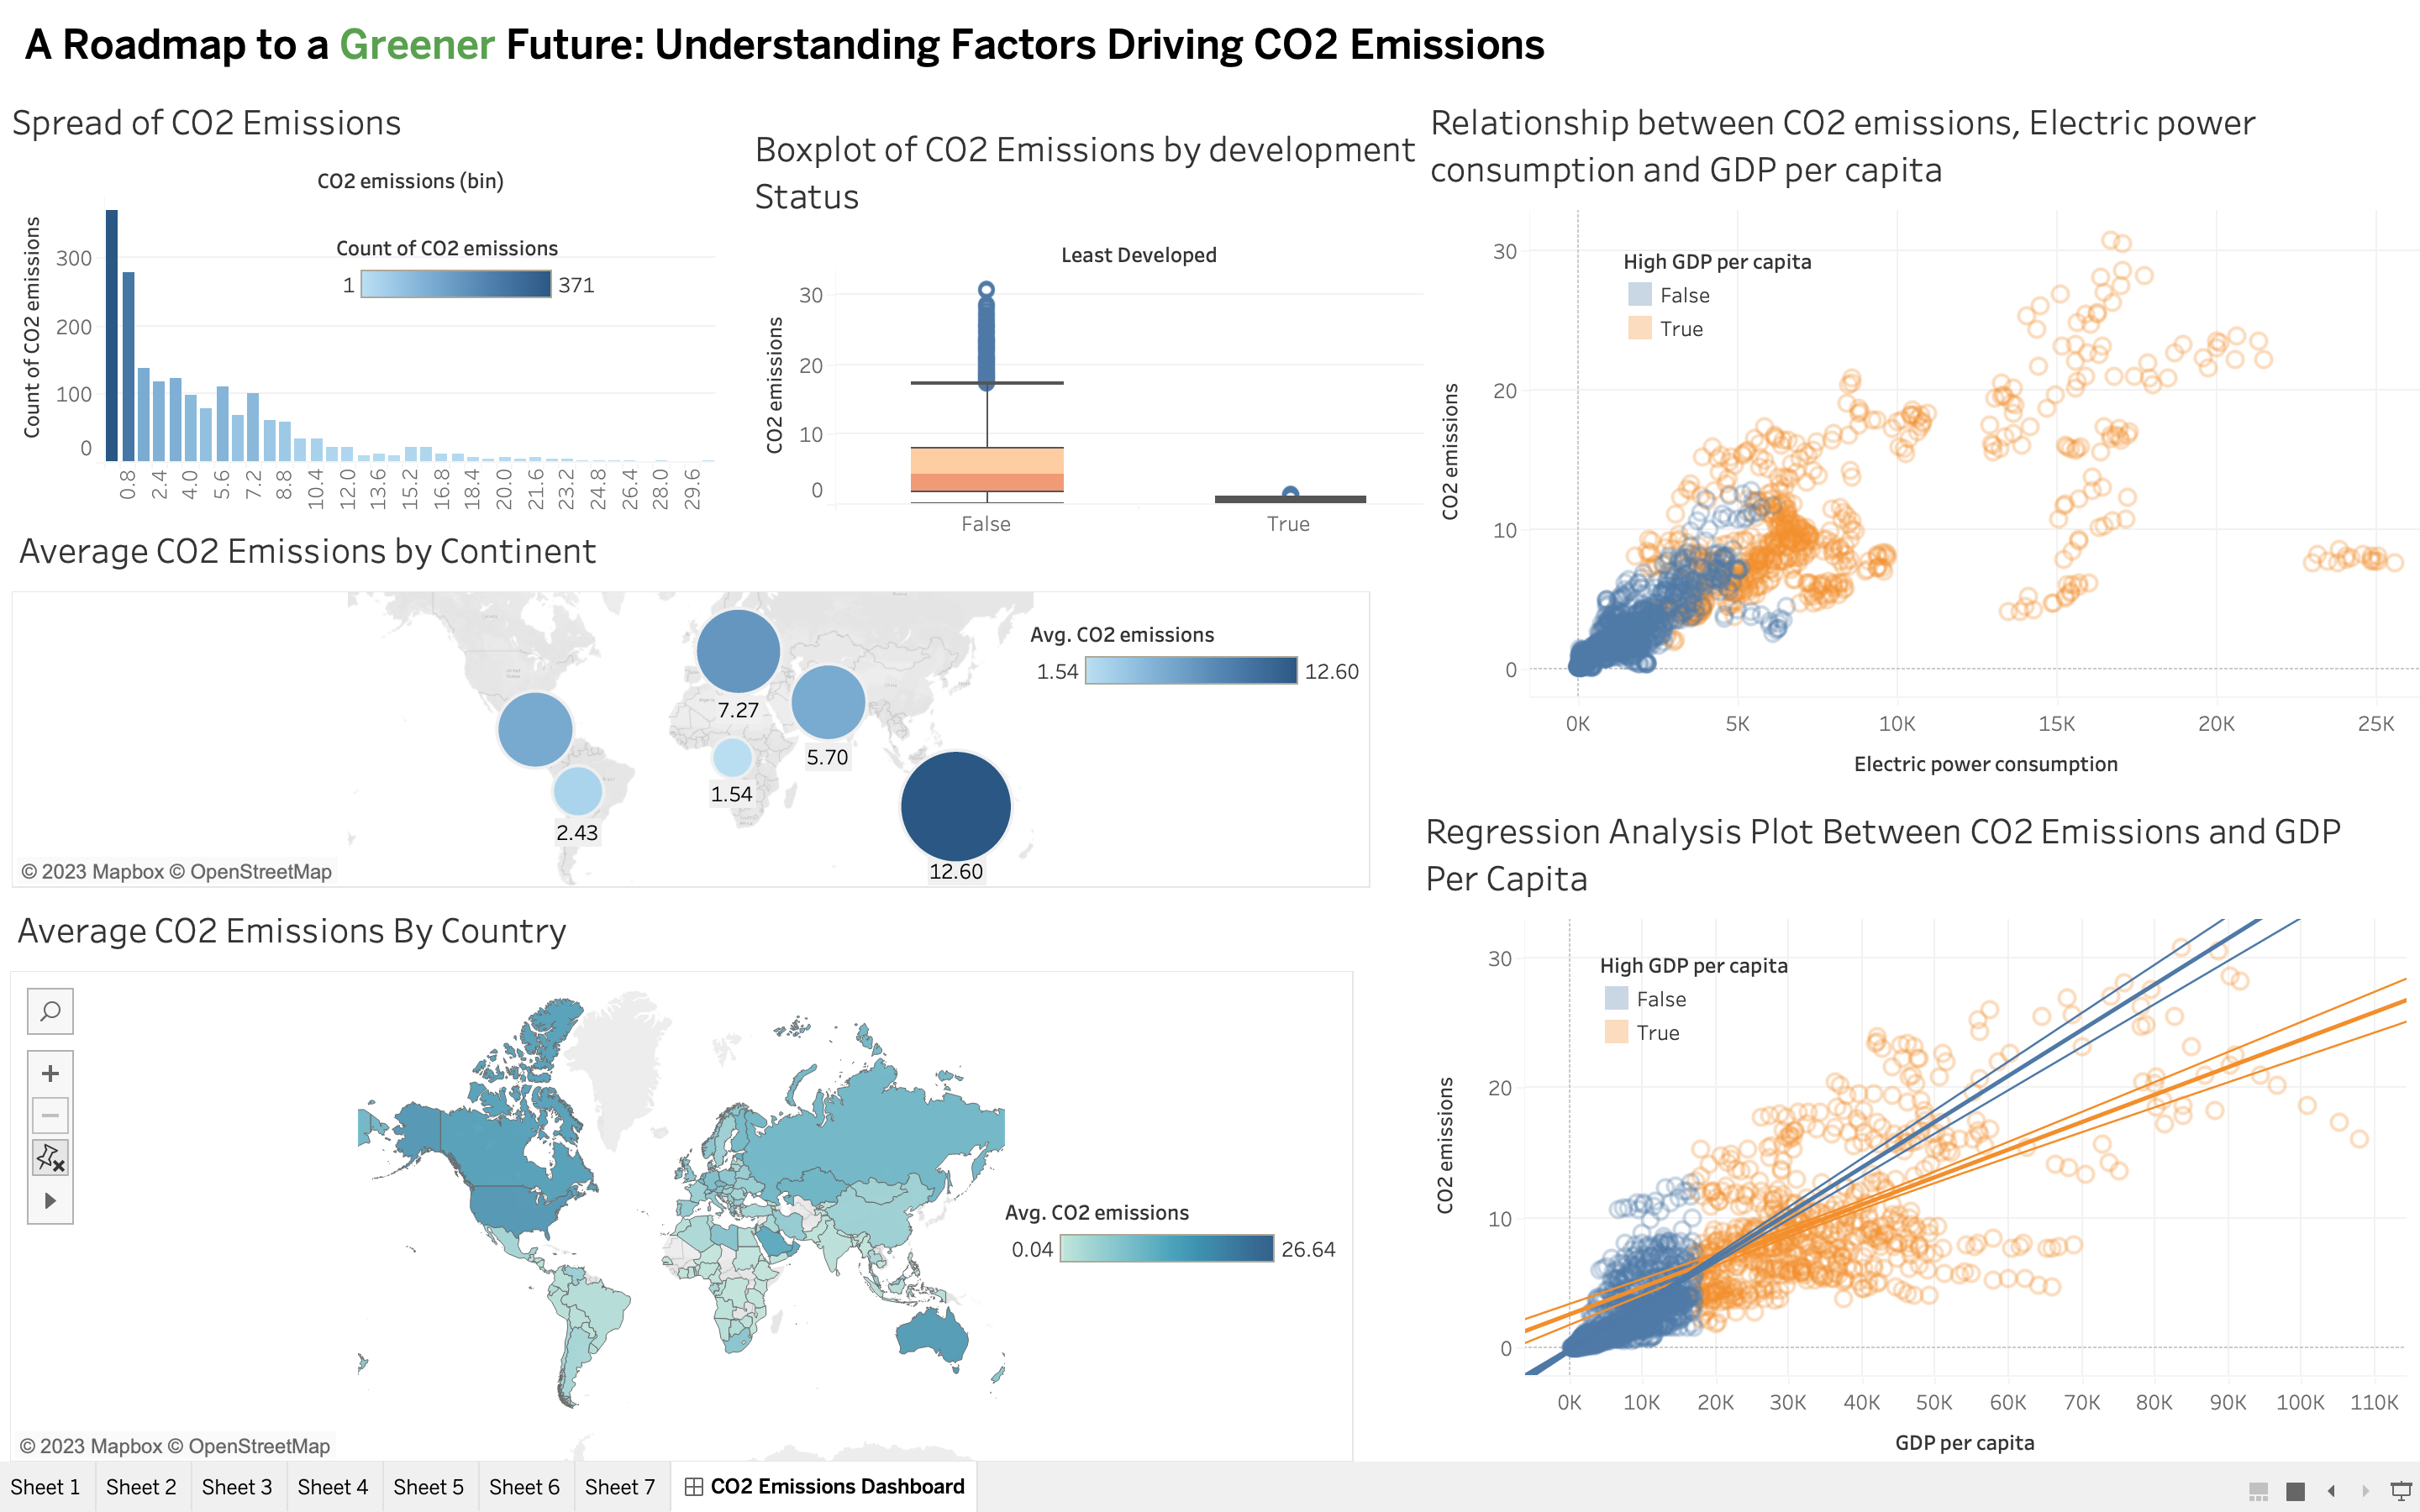

What the dashboard file says about the page in this screenshot:
{"tool":"tableau","page":{"name":"CO2 Emissions Dashboard","canvas":[1000,1000],"units":"permille","ordinal":0},"visuals":[{"type":"title","box":[6.3,11.5,987.4,151.5]},{"type":"worksheet","title":"Sheet 1","mark":"Automatic","rows":["CO2 emissions"],"cols":["CO2 emissions (bin)"],"box":[2.4,62.1,293.9,288.6]},{"type":"worksheet","title":"Sheet 5","mark":"Automatic","rows":["CO2 emissions"],"cols":["Least Developed"],"box":[308.9,80.8,286.8,288.6]},{"type":"legend","title":"Sheet 1","param":"[federated.183ozu30upbr1j1bpwobv05f9elx].[cnt:CO2 emissions:qk]","box":[138.7,160.2,110.3,109.7]},{"type":"legend","title":"Sheet 2","param":"[federated.183ozu30upbr1j1bpwobv05f9elx].[none:High GDP per capita:nk]","box":[670.6,168.8,158.4,85.1]},{"type":"worksheet","title":"Sheet 7","mark":"Automatic","box":[4.7,355,561.9,252.5]},{"type":"legend","title":"Sheet 7","param":"[federated.183ozu30upbr1j1bpwobv05f9elx].[avg:CO2 emissions:qk]","box":[425.5,424.2,139.5,95.2]},{"type":"worksheet","title":"Sheet 4","mark":"Automatic","rows":["CO2 emissions"],"cols":["GDP per capita"],"box":[586.3,546.9,408.2,457.4]},{"type":"worksheet","title":"Sheet 6","mark":"Automatic","box":[3.9,614.7,555.6,386.7]},{"type":"legend","title":"Sheet 4","param":"[federated.183ozu30upbr1j1bpwobv05f9elx].[none:High GDP per capita:nk]","box":[661.1,650.8,96.9,92.4]},{"type":"legend","title":"Sheet 6","param":"[federated.183ozu30upbr1j1bpwobv05f9elx].[avg:CO2 emissions:qk]","box":[415.1,819.2,140.1,95.2]}]}

Visuals, with their boxes on the dashboard's canvas, which has no fixed pixel size, in thousandths of its width and height (x1, y1, x2, y2). These are canvas units, not pixel positions in the 2420x1512 screenshot, which may show the page scaled, cropped or inside an application window:
title: [x1=6, y1=12, x2=994, y2=163]
"Sheet 1" worksheet: [x1=2, y1=62, x2=296, y2=351]
"Sheet 5" worksheet: [x1=309, y1=81, x2=596, y2=369]
"Sheet 1" legend: [x1=139, y1=160, x2=249, y2=270]
"Sheet 2" legend: [x1=671, y1=169, x2=829, y2=254]
"Sheet 7" worksheet: [x1=5, y1=355, x2=567, y2=608]
"Sheet 7" legend: [x1=426, y1=424, x2=565, y2=519]
"Sheet 4" worksheet: [x1=586, y1=547, x2=994, y2=1004]
"Sheet 6" worksheet: [x1=4, y1=615, x2=560, y2=1001]
"Sheet 4" legend: [x1=661, y1=651, x2=758, y2=743]
"Sheet 6" legend: [x1=415, y1=819, x2=555, y2=914]
